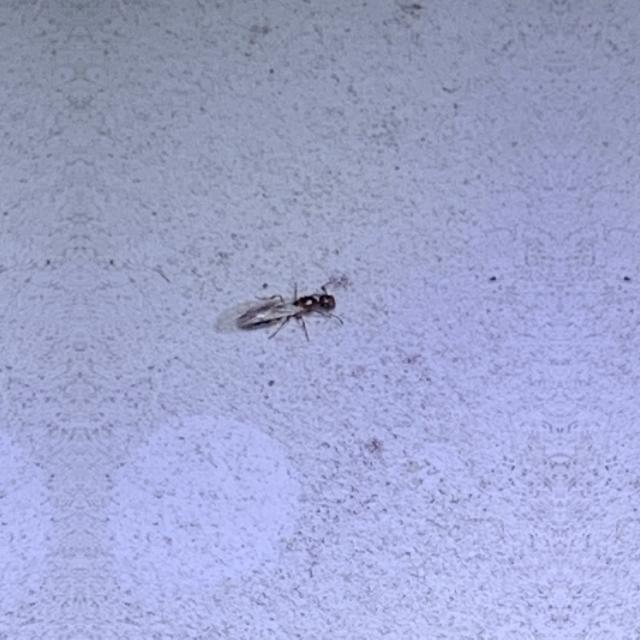Colobopsis: (228, 270, 348, 352)
